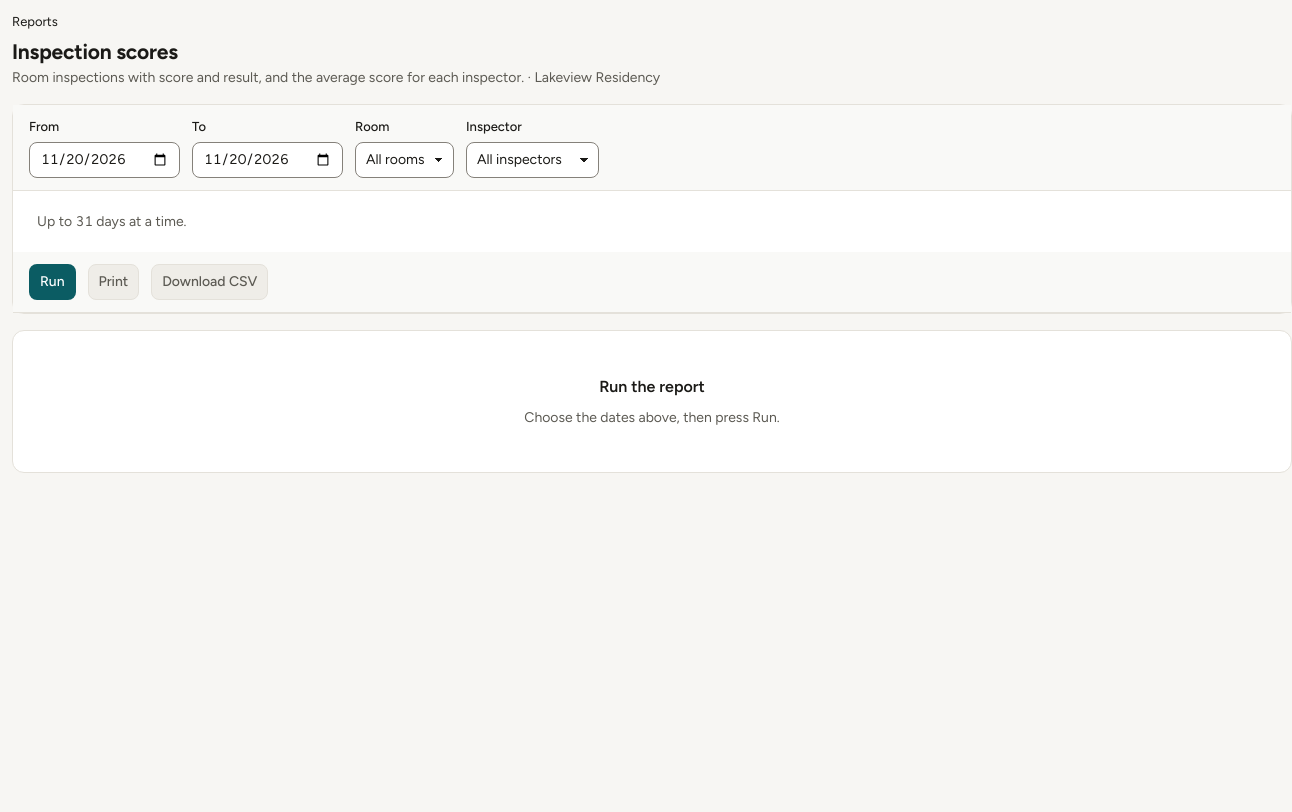
Test: ReportRunnerScreen: Part C night audit and housekeeping › inspection scores: room and inspector dropdowns, roster names for staff, subtotal rows in bold
Check: the date field labelled "From" holds "2026-11-20", box left=29, top=142, right=180, bottom=178
Step 1. Select "101" in the dropdown labelled "Room" → (404, 160), box left=355, top=142, right=454, bottom=178
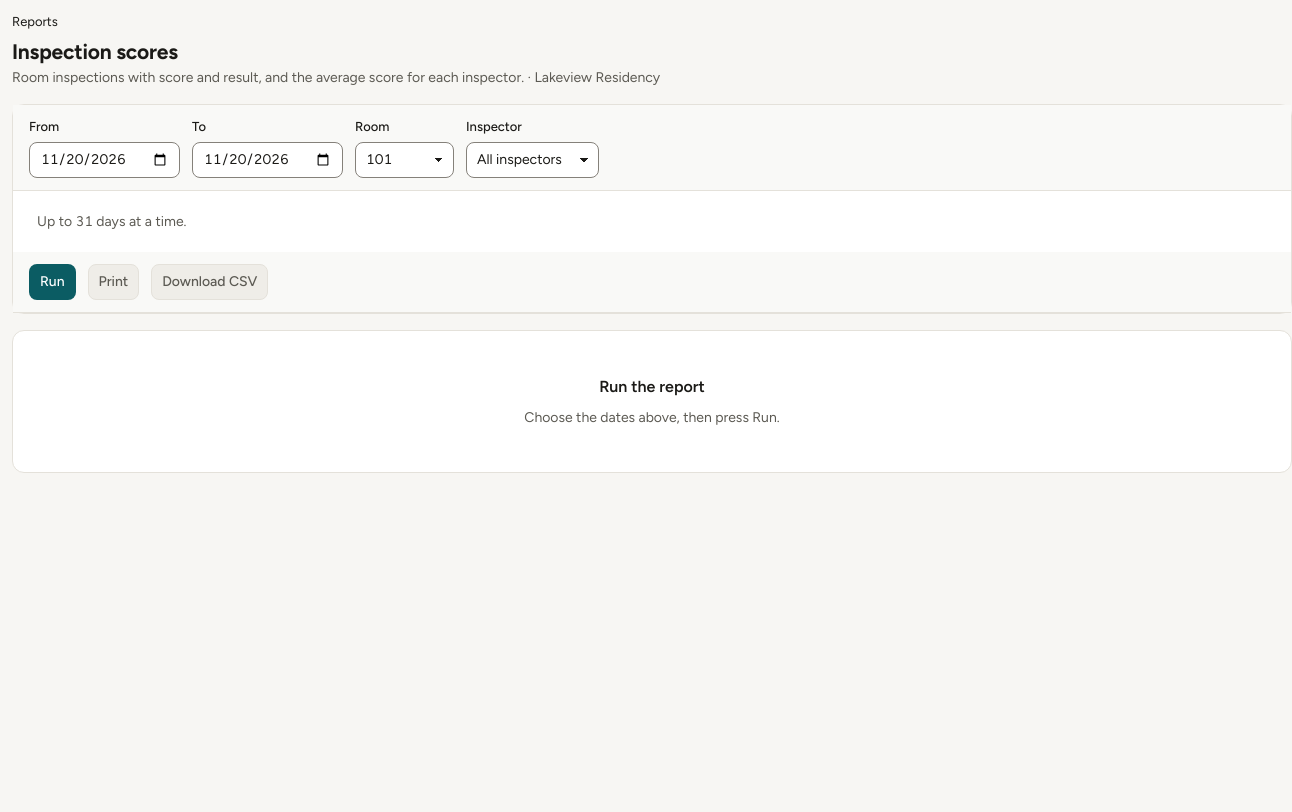
Step 2. Select "Ines Inspector" in the dropdown labelled "Inspector" → (532, 160), box left=466, top=142, right=599, bottom=178
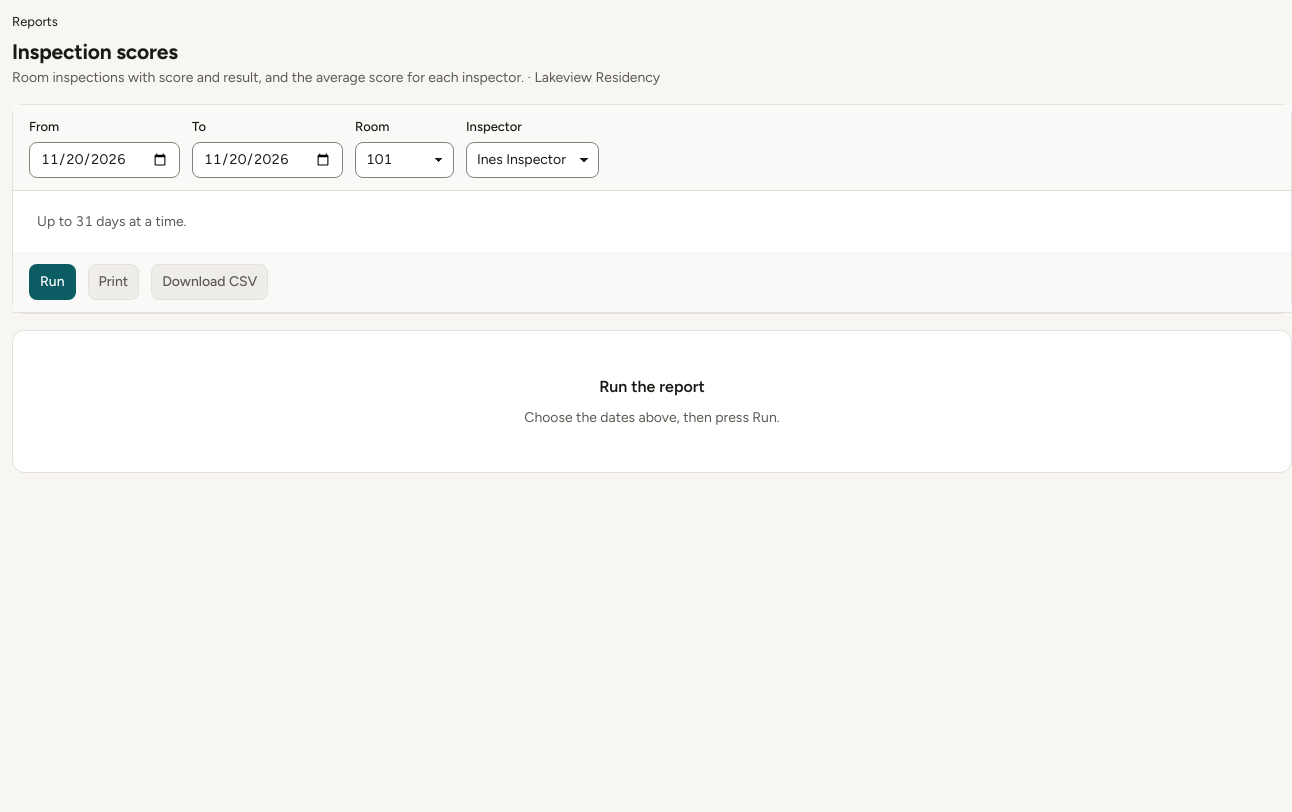
Step 3. Click the button with test id "report-run" → (52, 282), box left=29, top=264, right=76, bottom=300
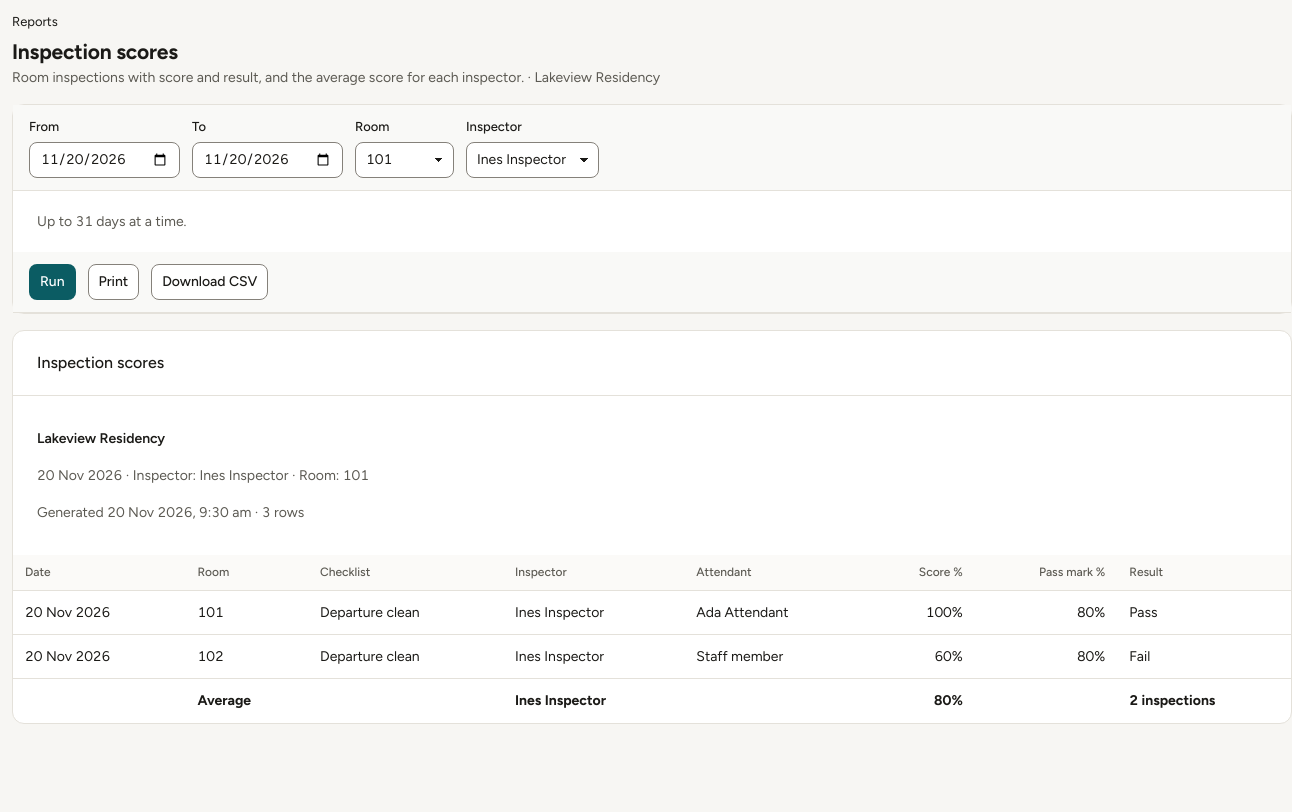
Check: the element with test id "report-card" is shown, box left=13, top=331, right=1291, bottom=723
Check: the text with test id "report-params" shows "Inspector: Ines Inspector", box left=37, top=467, right=369, bottom=484
Check: the text with test id "report-params" shows "Room: 101", box left=37, top=467, right=369, bottom=484
